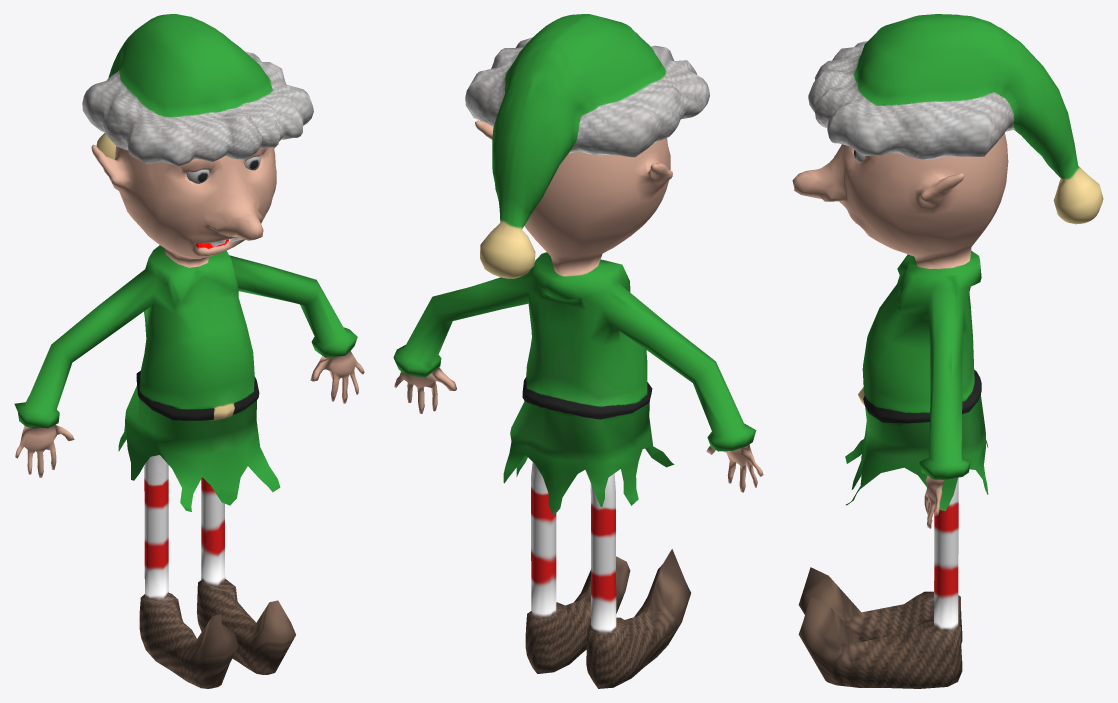
Rendered from Elf.fbx.
3 renders of one model, left to right at view 1: azimuth 30°, elevation 25°; view 2: azimuth 150°, elevation 25°; view 3: azimuth 270°, elevation 25°, orthographic. The views are drawn at different scales.
Parts seen in each view (by area): view 1: Retopo; view 2: Retopo; view 3: Retopo.
Boxes of the visible parts, bbox=[...] form: Retopo: bbox=[14, 14, 364, 688]; Retopo: bbox=[393, 14, 763, 688]; Retopo: bbox=[792, 14, 1103, 688].
Size of the model in its own units: 97.57 by 166 by 71.8.
Materials: 1 (1 with a texture image).
